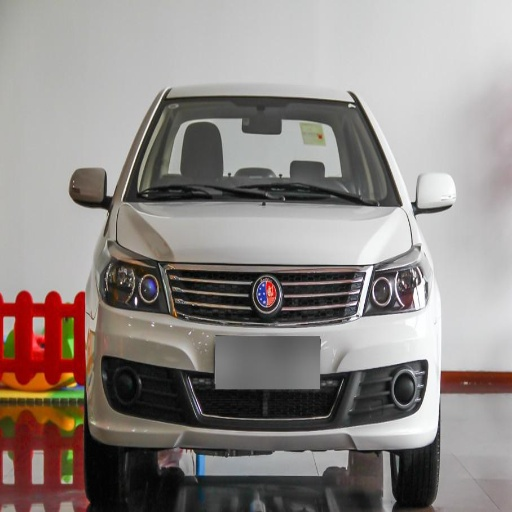front_bumper: (98, 262, 440, 478)
front_right_light: (99, 244, 163, 310)
hood: (113, 202, 414, 264), (167, 269, 276, 319)
left_mirror: (413, 172, 456, 214)
